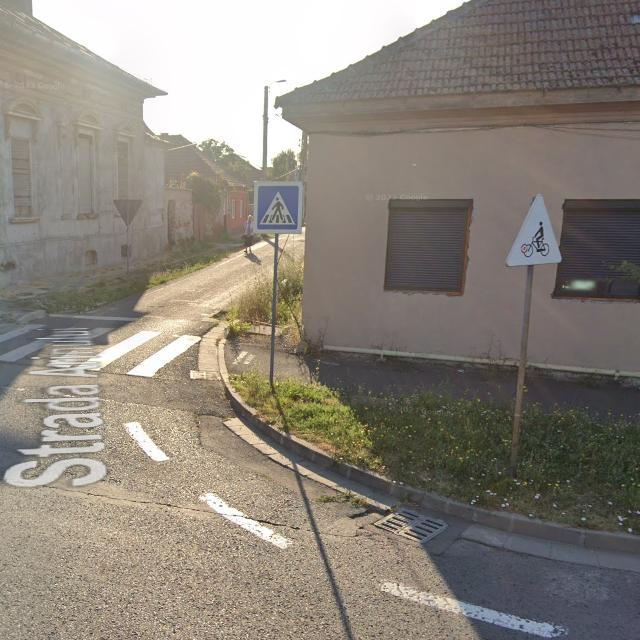info_crosswalk: (253, 181, 303, 234)
